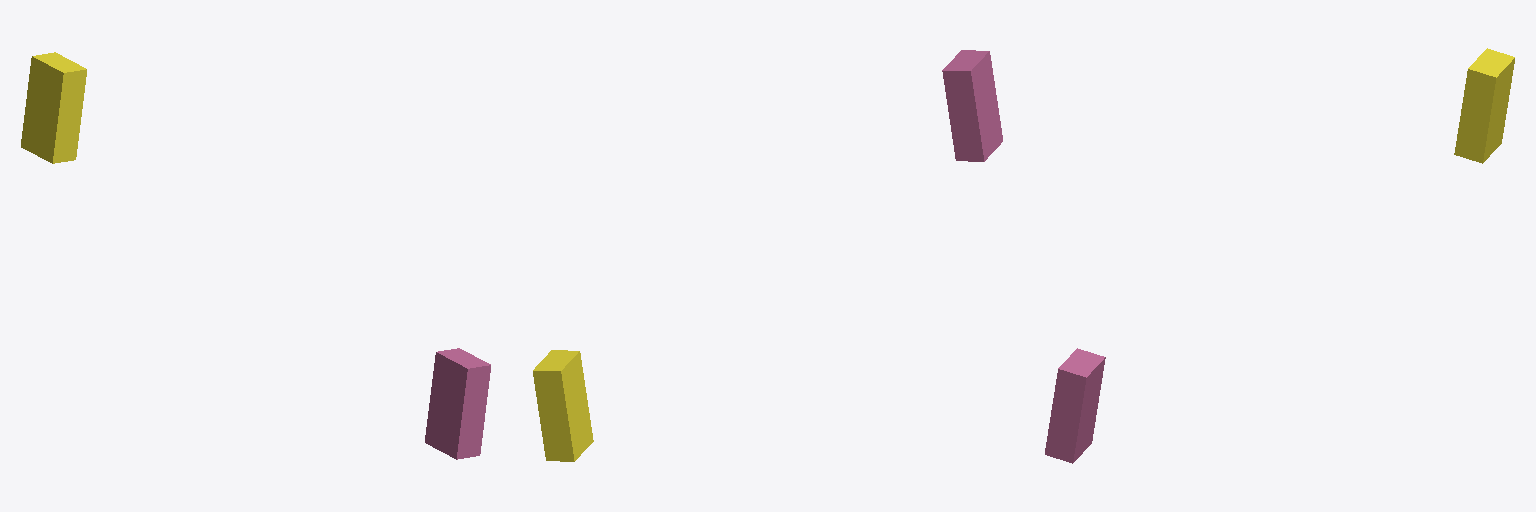
The robot description file, URDF, robot "sherpa_rover11":
<?xml version="1.0"?>
<robot name="sherpa_rover11">
  <link name="base_link">
    <!--MAIN_BODY-->
    <visual>
      <origin xyz="0.004205834120512009 -8.124277428578353e-08 0.4054466485977173" rpy="0 0 0" />
      <geometry>
	<mesh filename="package://sherpa_rover_description/meshes/Body.dae"/>
      </geometry>
    </visual>
    <!--BOX-->
    <!--TODO make this stand alone-->
    <visual>
      <origin xyz="0.08009205758571625 -1.417444082107977e-07 0.7942018508911133" rpy="0 0 0" />
      <geometry>
        <mesh filename="package://sherpa_rover_description/meshes/Box.dae"/>
      </geometry>
    </visual>
    <!--LEFT_CHAINS-->
    <visual>
      <origin xyz="0.16442573070526123 0.3477001190185547 0.14229679107666016" rpy="0 0 0" />
      <geometry>
        <mesh filename="package://sherpa_rover_description/meshes/Main_Wheel.dae"/>
      </geometry>
    </visual>
    <!--RIGHT_CHAINS-->
    <visual>
      <origin xyz="0.16442573070526123 -0.3477001190185547 0.14229679107666016" rpy="0 0 0" />
      <geometry>
        <mesh filename="package://sherpa_rover_description/meshes/Main_Wheel.dae"/>
      </geometry>
    </visual>
    <collision>
      <geometry>
        <mesh filename="package://sherpa_rover_description/meshes/Full_Body_Col.dae"/>
      </geometry>
        <origin xyz="0.004205834120512009 -8.124277428578353e-08 0.4054466485977173" rpy="0 0 0" />
    </collision>
    <inertial>
      <origin xyz="0 0 0" rpy="0 0 0"/>
      <mass value="100"/>
      <inertia 
        ixx="1.0" ixy="0.0" ixz="0.0" 
        iyy="1.0" iyz="0.0" 
        izz="1.0"/>
    </inertial>
  </link>
  
  
  <!-- ARM-LINKS -->
  <link name="arm_base">
    <visual>
      <geometry>
        <mesh filename="package://sherpa_rover_description/meshes/Arm_Base.dae"/>
      </geometry>
    </visual>
    <collision>
      <geometry>
        <mesh filename="package://sherpa_rover_description/meshes/Arm_Base_Col.dae"/>
      </geometry>
    </collision>
    <inertial>
      <origin xyz="0 0 0" rpy="0 0 0"/>
      <mass value="0.5"/>
      <inertia 
        ixx="1.0" ixy="0.0" ixz="0.0" 
        iyy="1.0" iyz="0.0" 
        izz="1.0"/>
    </inertial>
  </link>
  <link name="arm_lower">
      <visual>
      <geometry>
        <mesh filename="package://sherpa_rover_description/meshes/Arm_Part_1.dae"/>
      </geometry>
    </visual>
    <collision>
      <geometry>
        <mesh filename="package://sherpa_rover_description/meshes/Arm_Part_1_Col.dae"/>
      </geometry>
    </collision>
    <inertial>
      <origin xyz="0 0 0" rpy="0 0 0"/>
      <mass value="0.5"/>
      <inertia 
        ixx="1.0" ixy="0.0" ixz="0.0" 
        iyy="1.0" iyz="0.0" 
        izz="1.0"/>
    </inertial>
  </link>
  <link name="arm_upper">
    <visual>
      <geometry>
        <mesh filename="package://sherpa_rover_description/meshes/Arm_Part_2.dae"/>
      </geometry>
    </visual>
    <collision>
      <geometry>
        <mesh filename="package://sherpa_rover_description/meshes/Arm_Part_2_Col.dae"/>
      </geometry>
    </collision>
    <inertial>
      <origin xyz="0 0 0" rpy="0 0 0"/>
      <mass value="0.5"/>
      <inertia 
        ixx="1.0" ixy="0.0" ixz="0.0" 
        iyy="1.0" iyz="0.0" 
        izz="1.0"/>
    </inertial>
  </link>
  <link name="arm_gripper">
    <visual>
      <geometry>
        <mesh filename="package://sherpa_rover_description/meshes/Arm_Gripper.dae"/>
      </geometry>
    </visual>
    <collision>
      <geometry>
        <mesh filename="package://sherpa_rover_description/meshes/Arm_Gripper_Col.dae"/>
      </geometry>
    </collision>
    <inertial>
      <origin xyz="0 0 0" rpy="0 0 0"/>
      <mass value="0.1"/>
      <inertia 
        ixx="1.0" ixy="0.0" ixz="0.0" 
        iyy="1.0" iyz="0.0" 
        izz="1.0"/>
    </inertial>
  </link>

  <!-- ARM JOINTS-->
  <joint name="arm_body_to_base" type="fixed">
    <parent link="base_link"/>
    <child link="arm_base"/>
    
      <origin xyz="0.39818906784057617 0.0 0.4064980745315552" rpy="0 0 0" />
  </joint>    
  
  <joint name="arm_base_to_lower" type="revolute">
    <parent link="arm_base"/>
    <child link="arm_lower"/>
    <origin xyz="0.1376338005065918 0.0 0.00036263465881347656" rpy="0.0 0.0 0.0" />
    <axis xyz="0 1 0"/>
    <limit effort="30" velocity="1.0" lower="-0.8" upper="0.4" />  
  </joint>    
  
  <joint name="arm_lower_to_upper" type="revolute">
    <parent link="arm_lower"/>
    <child link="arm_upper"/>
    <!--origin xyz="0.3876638412475586 0.0 0.4721604585647583" rpy="0.0 0.0 0.0" /-->
    <origin xyz="0.6097101252698125 0.0 0.03837076473520801" rpy="0.0 0.0 0.0" />
    
      <!--origin xyz="0.5252976417541504 0.0 0.4721604585647583" rpy="0.0 -0.77430634573102 0.0" /-->
    <axis xyz="0 1 0"/>
    <limit effort="30" velocity="1.0" lower="-2" upper="2" />
  </joint>    
  
  <joint name="arm_upper_to_gripper" type="revolute">
    <parent link="arm_upper"/>
    <child link="arm_gripper"/>
    <origin xyz="0.5056173275473129 0.0 0.005" rpy="0.0 0.0 0.0" />
    <axis xyz="0 1 0"/>
    <limit effort="30" velocity="1.0" lower="-1.6" upper="1.6" />
  </joint>    
  
  
  <!--CHAINS-LINKS-->
  <link name="chains_loose_front_left">
    <visual>
      <geometry>
        <mesh filename="package://sherpa_rover_description/meshes/Loose_Wheel.dae"/>
      </geometry>
    <origin xyz="0.0 0.0 0.0" rpy="3.1415939331054688 0.0 0.0 " />
    </visual>
    <collision>
      <geometry>
        <mesh filename="package://sherpa_rover_description/meshes/Loose_Wheel_Col.dae"/>
      </geometry>
    <origin xyz="0.0 0.0 0.0" rpy="3.1415939331054688 0.0 0.0 " />
    </collision>
    <inertial>
      <origin xyz="0 0 1" rpy="0 0 0"/>
      <mass value="1"/>
      <inertia 
        ixx="1.0" ixy="0.0" ixz="0.0" 
        iyy="1.0" iyz="0.0" 
        izz="1.0"/>
    </inertial>
  </link>
  
  <link name="chains_loose_front_right">
    <visual>
      <geometry>
        <mesh filename="package://sherpa_rover_description/meshes/Loose_Wheel.dae"/>
      </geometry>
    </visual>
    <collision>
      <geometry>
        <mesh filename="package://sherpa_rover_description/meshes/Loose_Wheel_Col.dae"/>
      </geometry>
    </collision>
    <inertial>
      <origin xyz="0 0 1" rpy="0 0 0"/>
      <mass value="1"/>
      <inertia 
        ixx="1.0" ixy="0.0" ixz="0.0" 
        iyy="1.0" iyz="0.0" 
        izz="1.0"/>
    </inertial>
  </link>
  <link name="chains_loose_back_left">
    <visual>
      <geometry>
        <mesh filename="package://sherpa_rover_description/meshes/Loose_Wheel.dae"/>
      </geometry>
    <origin xyz="0.0 0.0 0.0" rpy="3.1415939331054688 3.1415939331054688 0.0" />
    </visual>
    <collision>
      <geometry>
        <mesh filename="package://sherpa_rover_description/meshes/Loose_Wheel_Col.dae"/>
      </geometry>
    <origin xyz="0.0 0.0 0.0" rpy="3.1415939331054688 3.1415939331054688 0.0" />
    </collision>
    <inertial>
      <origin xyz="0 0 1" rpy="0 0 0"/>
      <mass value="1"/>
      <inertia 
        ixx="1.0" ixy="0.0" ixz="0.0" 
        iyy="1.0" iyz="0.0" 
        izz="1.0"/>
    </inertial>
  </link>
  <link name="chains_loose_back_right">
    <visual>
      <geometry>
        <mesh filename="package://sherpa_rover_description/meshes/Loose_Wheel.dae"/>
      </geometry>
    <origin xyz="0.0 0.0 0.0" rpy="0.0 3.1415939331054688 0.0" />
    </visual>
    <collision>
      <geometry>
        <mesh filename="package://sherpa_rover_description/meshes/Loose_Wheel_Col.dae"/>
      </geometry>
    <origin xyz="0.0 0.0 0.0" rpy="0.0 3.1415939331054688 0.0" />
    </collision>
    <inertial>
      <origin xyz="0 0 1" rpy="0 0 0"/>
      <mass value="1"/>
      <inertia 
        ixx="1.0" ixy="0.0" ixz="0.0" 
        iyy="1.0" iyz="0.0" 
        izz="1.0"/>
    </inertial>
  </link>
  
  
  
  <link name="ray_link_left">
    <inertial>
      <mass value="0.001"/>
      <origin rpy="0 0 0" xyz="0 0 0"/>
      <inertia ixx="0.000000017" ixy="0" ixz="0" iyy="0.000000017" iyz="0" izz="0.000000017"/>
    </inertial>
    <visual>
      <origin rpy="0 0 0" xyz="0 0 0"/>
      <geometry>
        <!--<box size="0.01 0.01 0.01" /> -->
        <mesh filename="package://hector_sensors_description/meshes/sonar_sensor/max_sonar_ez4.dae"/>
      </geometry>
    </visual>
    <collision>
      <origin rpy="0 0 0" xyz="0 0 0"/>
      <geometry>
        <box size="0.01 0.01 0.01"/>
      </geometry>
    </collision>
  </link>
  
  
  <link name="ray_link_right">
    <inertial>
      <mass value="0.001"/>
      <origin rpy="0 0 0" xyz="0 0 0"/>
      <inertia ixx="0.000000017" ixy="0" ixz="0" iyy="0.000000017" iyz="0" izz="0.000000017"/>
    </inertial>
    <visual>
      <origin rpy="0 0 0" xyz="0 0 0"/>
      <geometry>
        <!--<box size="0.01 0.01 0.01" /> -->
        <mesh filename="package://hector_sensors_description/meshes/sonar_sensor/max_sonar_ez4.dae"/>
      </geometry>
    </visual>
    <collision>
      <origin rpy="0 0 0" xyz="0 0 0"/>
      <geometry>
        <box size="0.01 0.01 0.01"/>
      </geometry>
    </collision>
  </link>
  
  
  <joint name="ray_joint_left" type="fixed">
    <origin rpy="0 0 0" xyz="-0.023 0.0018 0.0012"/>
    <parent link="base_link"/>
    <child link="ray_link_left"/>
  </joint>
  
  <joint name="ray_joint_right" type="fixed">
    <origin rpy="0 0 0" xyz="-0.023 -0.0018 0.0012"/>
    <parent link="base_link"/>
    <child link="ray_link_right"/>
  </joint>
  <!--CHAINS-JOINTS-->
  
  <joint name="chains_body_to_fl" type="fixed">
    <parent link="base_link"/>
    <child link="chains_loose_front_left"/>
      <origin xyz="0.6964254379272461 0.5033063888549805 0.1422966718673706" rpy="0 0 0" />
    
    <axis xyz="0 1 0"/>
  </joint>    
  
  <joint name="chains_body_to_fr" type="fixed">
    <parent link="base_link"/>
    <child link="chains_loose_front_right"/>
      <origin xyz="0.6964254379272461 -0.5033063888549805 0.1422966718673706" rpy="0 0 0" />
    
    <axis xyz="0 1 0"/>
  </joint>    
  <joint name="chains_body_to_bl" type="fixed">
    <parent link="base_link"/>
    <child link="chains_loose_back_left"/>
    
    <origin xyz="-0.34882116317749023 0.5033063888549805 0.1422966718673706" rpy="0.0 0.0 0.0" />
      <axis xyz="0 1 0"/>
  </joint>    
  
  <joint name="chains_body_to_br" type="fixed">
    <parent link="base_link"/>
    <child link="chains_loose_back_right"/>
    
    <origin xyz="-0.34882116317749023 -0.5033063888549805 0.1422966718673706" rpy="0.0 0.0 0.0" />
      <axis xyz="0 1 0"/>
  </joint>    
  
  <link name="kinect_link_right">
    <visual>
        <geometry>
        <box size="0.064 0.121 0.0381" />
        </geometry>
        <material name="Blue" />
    </visual>
    <inertial>
        <mass value="0.0001" />
        <origin xyz="0 0 0" />
        <inertia ixx="0.0001" ixy="0.0" ixz="0.0"
                iyy="0.0001" iyz="0.0" 
                izz="0.0001" />
    </inertial>
    </link>

    <joint name="kinect_depth_joint_right" type="fixed">
    <origin xyz="0 0.028 0" rpy="0 0 0" />
    <parent link="kinect_link_right" />
    <child link="kinect_depth_frame_right" />
    </joint>

    <link name="kinect_depth_frame_right">
    <inertial>
        <mass value="0.0001" />
        <origin xyz="0 0 0" />
        <inertia ixx="0.0001" ixy="0.0" ixz="0.0"
                iyy="0.0001" iyz="0.0" 
                izz="0.0001" />
    </inertial>
    </link>

    <joint name="depth_optical_joint_right" type="fixed">
    <origin xyz="0 0 0" rpy="1.72 0 1.72" />
    <parent link="kinect_depth_frame_right" />
    <child link="kinect_depth_optical_frame_right" />
    </joint>

    <link name="kinect_depth_optical_frame_right">
    <inertial>
        <mass value="0.0001" />
        <origin xyz="0 0 0" />
        <inertia ixx="0.0001" ixy="0.0" ixz="0.0"
                iyy="0.0001" iyz="0.0" 
                izz="0.0001" />
    </inertial>
    </link>
    
    
  
  <link name="kinect_link_left">
    <visual>
        <geometry>
        <box size="0.064 0.121 0.0381" />
        </geometry>
        <material name="Blue" />
    </visual>
    <inertial>
        <mass value="0.0001" />
        <origin xyz="0 0 0" />
        <inertia ixx="0.0001" ixy="0.0" ixz="0.0"
                iyy="0.0001" iyz="0.0" 
                izz="0.0001" />
    </inertial>
    </link>

    <joint name="kinect_depth_joint_left" type="fixed">
    <origin xyz="0 0.028 0" rpy="0 0 0" />
    <parent link="kinect_link_left" />
    <child link="kinect_depth_frame_left" />
    </joint>

    <link name="kinect_depth_frame_left">
    <inertial>
        <mass value="0.0001" />
        <origin xyz="0 0 0" />
        <inertia ixx="0.0001" ixy="0.0" ixz="0.0"
                iyy="0.0001" iyz="0.0" 
                izz="0.0001" />
    </inertial>
    </link>

    <joint name="depth_optical_joint_left" type="fixed">
    <origin xyz="0 0 0" rpy="1.72 0 1.72" />
    <parent link="kinect_depth_frame_left" />
    <child link="kinect_depth_optical_frame_left" />
    </joint>

    <link name="kinect_depth_optical_frame_left">
    <inertial>
        <mass value="0.0001" />
        <origin xyz="0 0 0" />
        <inertia ixx="0.0001" ixy="0.0" ixz="0.0"
                iyy="0.0001" iyz="0.0" 
                izz="0.0001" />
    </inertial>
    </link>
  
    
    <joint name="kinect_joint_left" type="fixed">
        <origin xyz="-0.34882116317749023 -0.5033063888549805 0.1422966718673706" rpy="1.72 0 1.72"/>
        <parent link="base_link"/>
        <child link="kinect_link_left"/>
    </joint>
    
    
    <joint name="kinect_joint_right" type="fixed">
        <origin xyz="-0.34882116317749023 0.5033063888549805 0.1422966718673706" rpy="1.72 0 1.72"/>
        <parent link="base_link"/>
        <child link="kinect_link_right"/>
    </joint>
  <transmission name="arm1">
      <type>transmission_interface/SimpleTransmission</type>
      <joint name="arm_base_to_lower"/>
      <actuator name="motor1">
          <hardwareInterface>EffortJointInterface</hardwareInterface>
           <mechanicalReduction>1</mechanicalReduction>
       </actuator>
  </transmission>
  
  <transmission name="arm2">
      
      <type>transmission_interface/SimpleTransmission</type>
      <joint name="arm_lower_to_upper"/>
      <actuator name="motor2">
          <hardwareInterface>EffortJointInterface</hardwareInterface>
           <mechanicalReduction>1</mechanicalReduction>
           </actuator>
  </transmission>
  
  <transmission name="arm3">
      
      <type>transmission_interface/SimpleTransmission</type>
      <joint name="arm_upper_to_gripper"/>
      <actuator name="motor3">
          <hardwareInterface>EffortJointInterface</hardwareInterface>
           <mechanicalReduction>1</mechanicalReduction>
           </actuator>
  </transmission>
  
  
    
  <gazebo>
        <plugin name="rover_ros_control" filename="libgazebo_ros_control.so">
             <robotParam>sherpa_rover/robot_description</robotParam>
             <robotNamespace>/sherpa_rover</robotNamespace>
             <controlPeriod>0.001</controlPeriod>
         </plugin>
    <plugin name="object_controller" filename="libgazebo_ros_planar_move.so">
      <commandTopic>cmd_vel</commandTopic>
      <odometryTopic>odom</odometryTopic>
      <odometryFrame>odom</odometryFrame>
      <odometryRate>20.0</odometryRate>
      <robotBaseFrame>base_link</robotBaseFrame>
    </plugin>
  </gazebo>
  
  
</robot>

--- Render facts (derived) ---
Views: 3 orthographic renders of the robot side by side, from view 1: azimuth 30°, elevation 25°; view 2: azimuth 150°, elevation 25°; view 3: azimuth 330°, elevation 25°.
Robot: sherpa_rover11 — 17 links, 16 joints (3 revolute, 13 fixed); root link base_link; default pose: every joint at zero.
Links seen in each view (by area): view 1: kinect_link_right, kinect_link_left; view 2: kinect_link_right, kinect_link_left; view 3: kinect_link_right, kinect_link_left.
Link boxes in pixels (<box>): kinect_link_right: <box>21,52,86,163</box>; kinect_link_left: <box>425,348,490,459</box>; kinect_link_right: <box>533,350,593,461</box>; kinect_link_left: <box>942,50,1002,161</box>; kinect_link_right: <box>1454,48,1514,163</box>; kinect_link_left: <box>1045,348,1105,463</box>.
Size in the robot's own frame: 0.0646 by 1.08 by 0.1253 metres.
0 mesh visuals loaded from 9 distinct referenced files (none loaded); not drawn: 14 (reference not matched to a file when rendering).